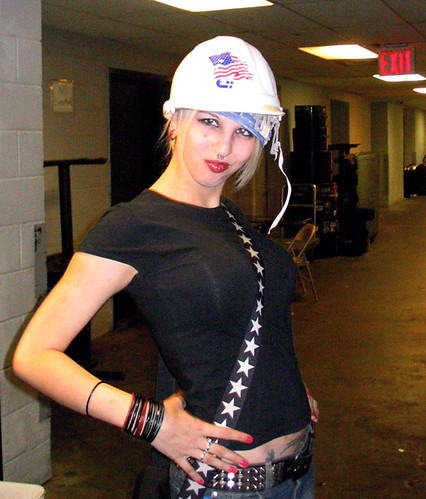person hardhat: (163, 36, 284, 190)
